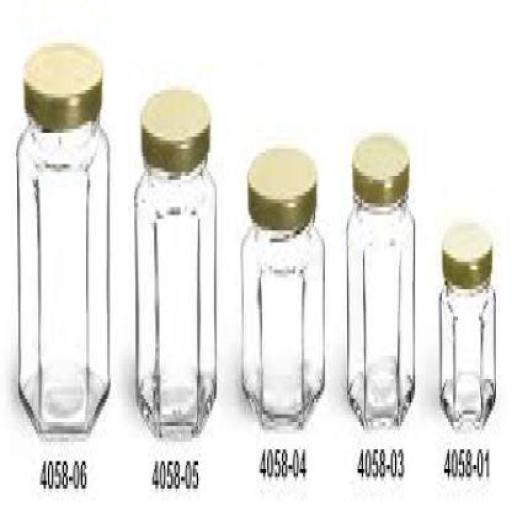glass: (15, 118, 108, 430), (134, 156, 216, 434), (239, 219, 323, 422), (346, 195, 413, 434), (437, 274, 495, 430)
metal: (21, 46, 101, 126), (246, 144, 314, 230), (140, 86, 208, 164), (351, 130, 407, 200), (440, 215, 490, 285)
